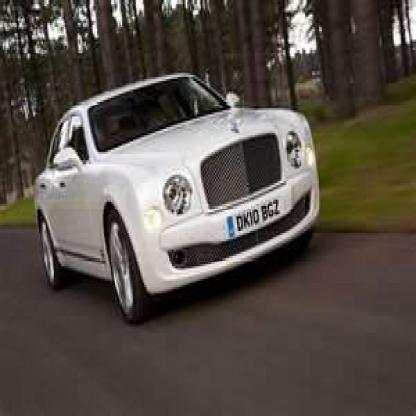Vehicle: (39, 77, 323, 324)
